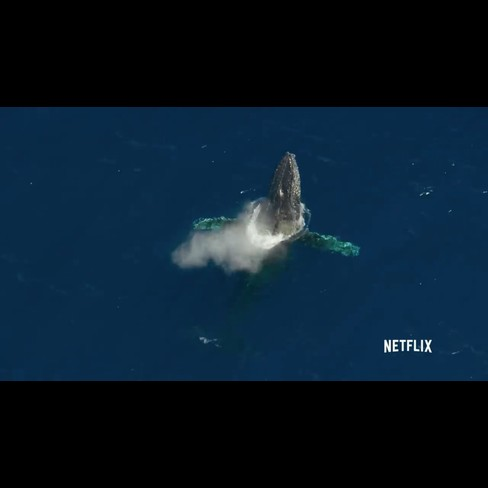hump: (185, 148, 368, 369)
